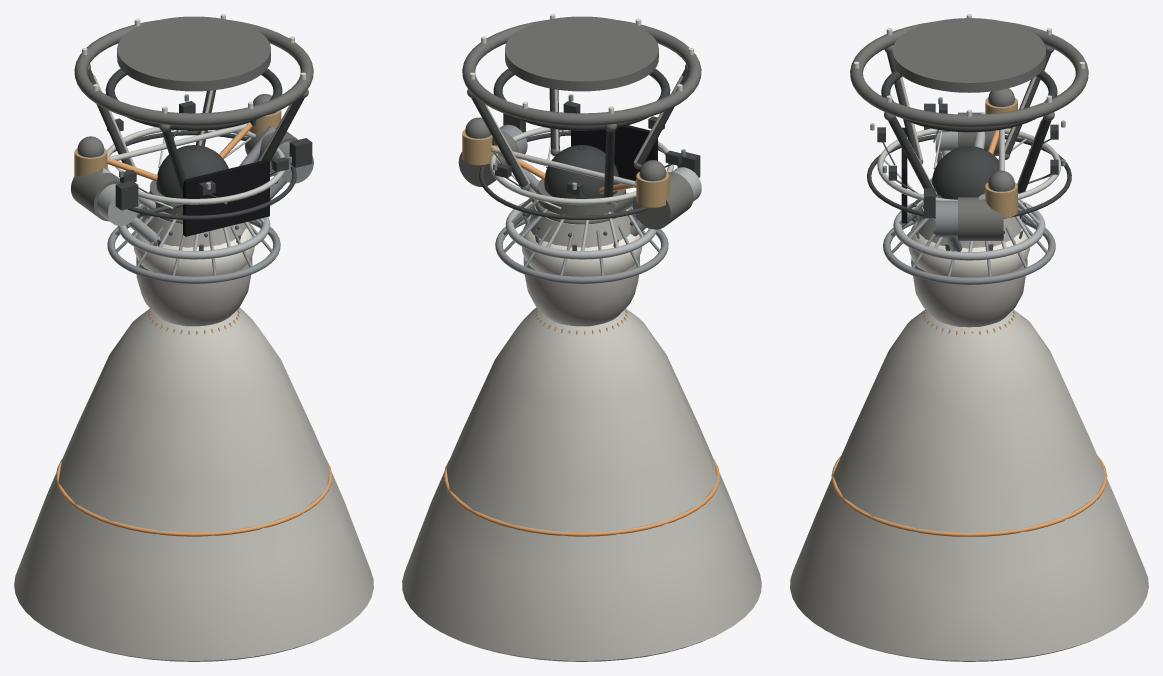
The model's file is raptor_engine_concept_assembly.glb.
The picture shows the model from 3 angles, left to right: view 1: azimuth 30°, elevation 25°; view 2: azimuth 150°, elevation 25°; view 3: azimuth 270°, elevation 25°; orthographic projection.
Parts seen in each view (by area): view 1: =>[0:1:1:5], =>[0:1:1:379], =>[0:1:1:144], =>[0:1:1:375], =>[0:1:1:489], =>[0:1:1:487], =>[0:1:1:156], =>[0:1:1:310], =>[0:1:1:21], =>[0:1:1:308], =>[0:1:1:312], =>[0:1:1:271] (+11 smaller); view 2: =>[0:1:1:5], =>[0:1:1:379], =>[0:1:1:144], =>[0:1:1:375], =>[0:1:1:156], =>[0:1:1:487], =>[0:1:1:489], =>[0:1:1:310], =>[0:1:1:308], =>[0:1:1:267], =>[0:1:1:21], =>[0:1:1:312] (+10 smaller); view 3: =>[0:1:1:5], =>[0:1:1:379], =>[0:1:1:375], =>[0:1:1:144], =>[0:1:1:156], =>[0:1:1:487], =>[0:1:1:310], =>[0:1:1:308], =>[0:1:1:285], =>[0:1:1:21], =>[0:1:1:312], =>[0:1:1:271] (+5 smaller).
Boxes of the visible parts, bbox=[...] form: =>[0:1:1:5]: bbox=[14, 307, 373, 660]; =>[0:1:1:379]: bbox=[117, 16, 270, 91]; =>[0:1:1:144]: bbox=[136, 207, 252, 326]; =>[0:1:1:375]: bbox=[74, 20, 313, 126]; =>[0:1:1:489]: bbox=[183, 159, 269, 236]; =>[0:1:1:487]: bbox=[133, 220, 254, 276]; =>[0:1:1:156]: bbox=[156, 145, 228, 198]; =>[0:1:1:310]: bbox=[107, 216, 280, 283]; =>[0:1:1:21]: bbox=[56, 459, 332, 536]; =>[0:1:1:308]: bbox=[118, 204, 270, 259]; =>[0:1:1:312]: bbox=[107, 127, 284, 204]; =>[0:1:1:271]: bbox=[113, 131, 296, 220]; =>[0:1:1:5]: bbox=[402, 307, 761, 660]; =>[0:1:1:379]: bbox=[505, 16, 658, 91]; =>[0:1:1:144]: bbox=[523, 205, 639, 326]; =>[0:1:1:375]: bbox=[462, 20, 701, 126]; =>[0:1:1:156]: bbox=[544, 145, 619, 198]; =>[0:1:1:487]: bbox=[522, 219, 642, 276]; =>[0:1:1:489]: bbox=[571, 112, 657, 180]; =>[0:1:1:310]: bbox=[495, 215, 668, 283]; =>[0:1:1:308]: bbox=[505, 201, 656, 259]; =>[0:1:1:267]: bbox=[633, 172, 693, 229]; =>[0:1:1:21]: bbox=[443, 459, 719, 536]; =>[0:1:1:312]: bbox=[489, 127, 673, 204]; =>[0:1:1:5]: bbox=[790, 309, 1148, 660]; =>[0:1:1:379]: bbox=[892, 18, 1045, 92]; =>[0:1:1:375]: bbox=[850, 21, 1088, 127]; =>[0:1:1:144]: bbox=[911, 207, 1027, 327]; =>[0:1:1:156]: bbox=[932, 146, 998, 199]; =>[0:1:1:487]: bbox=[908, 220, 1029, 277]; =>[0:1:1:310]: bbox=[883, 219, 1055, 284]; =>[0:1:1:308]: bbox=[893, 200, 1045, 260]; =>[0:1:1:285]: bbox=[958, 197, 1003, 240]; =>[0:1:1:21]: bbox=[831, 455, 1107, 536]; =>[0:1:1:312]: bbox=[877, 128, 1061, 200]; =>[0:1:1:271]: bbox=[867, 134, 1071, 218].
Size of the model in its own units: 1.45 by 2.4 by 1.45.
